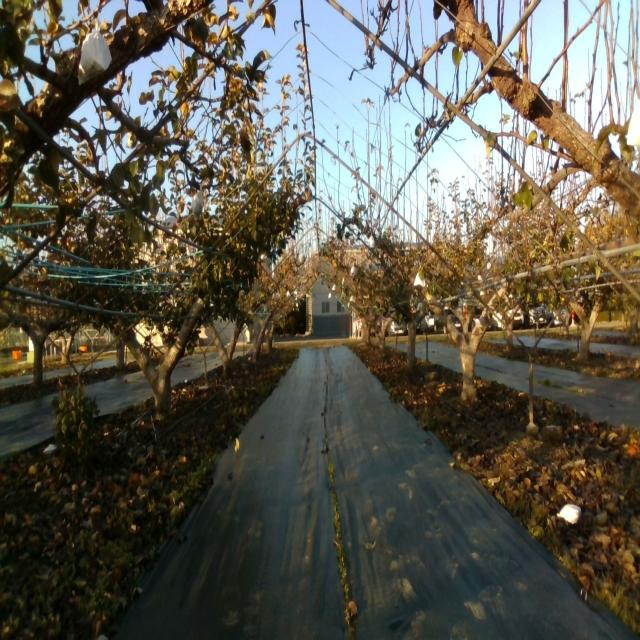pearbags: (78, 27, 113, 86), (192, 184, 206, 220)
